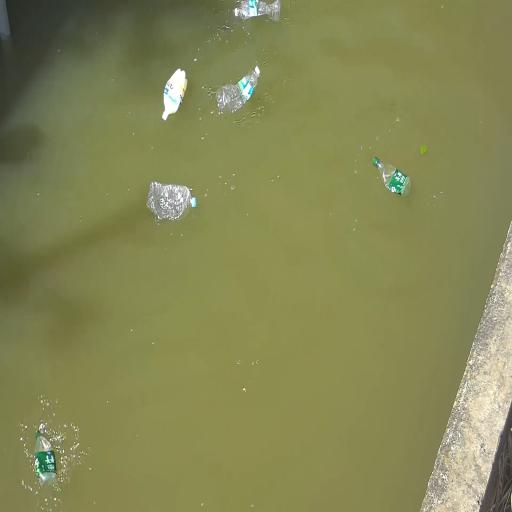plastic: (216, 66, 259, 113), (147, 181, 196, 221), (374, 158, 410, 195), (162, 69, 187, 120), (35, 429, 57, 484), (234, 0, 280, 21)
